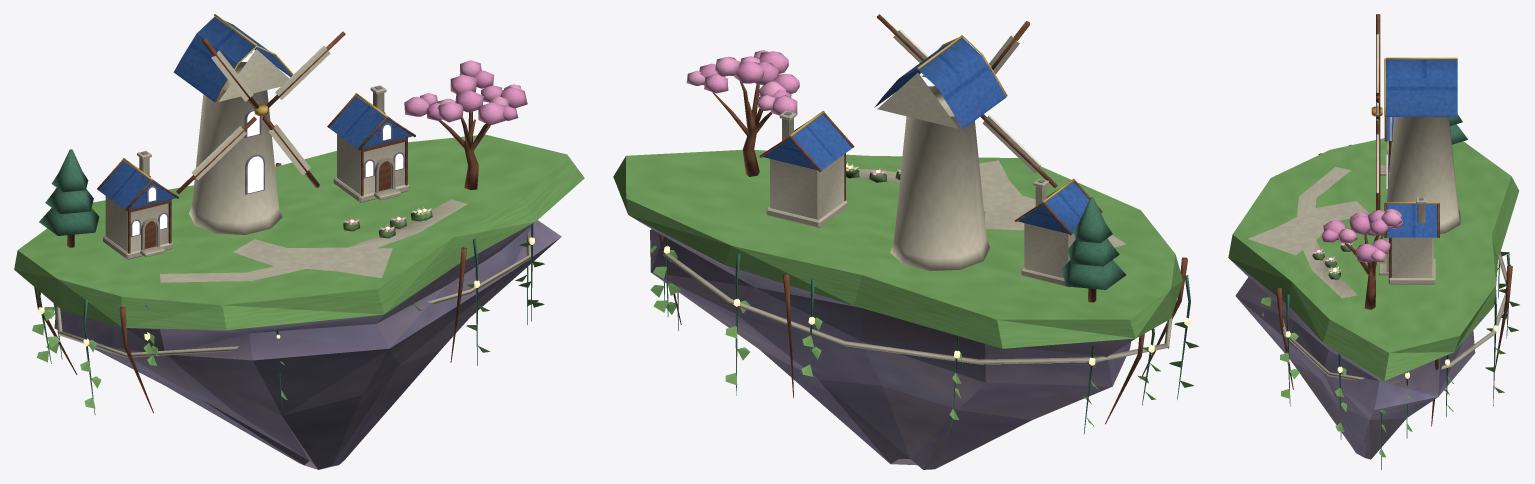
Rendered from sky-windmill-low.glb.
3 renders of one model, left to right at view 1: azimuth 30°, elevation 25°; view 2: azimuth 150°, elevation 25°; view 3: azimuth 270°, elevation 25°, orthographic. The views are drawn at different scales.
Parts seen in each view (by area): view 1: sky-windmill; view 2: sky-windmill; view 3: sky-windmill.
Boxes of the visible parts, x1,y1,x2,y2 form: sky-windmill: (14, 14, 584, 469); sky-windmill: (613, 14, 1198, 469); sky-windmill: (1228, 14, 1519, 469).
Bounding box in the file's own units: 16.35 × 13.19 × 8.96.
10 materials, 10 textured.
